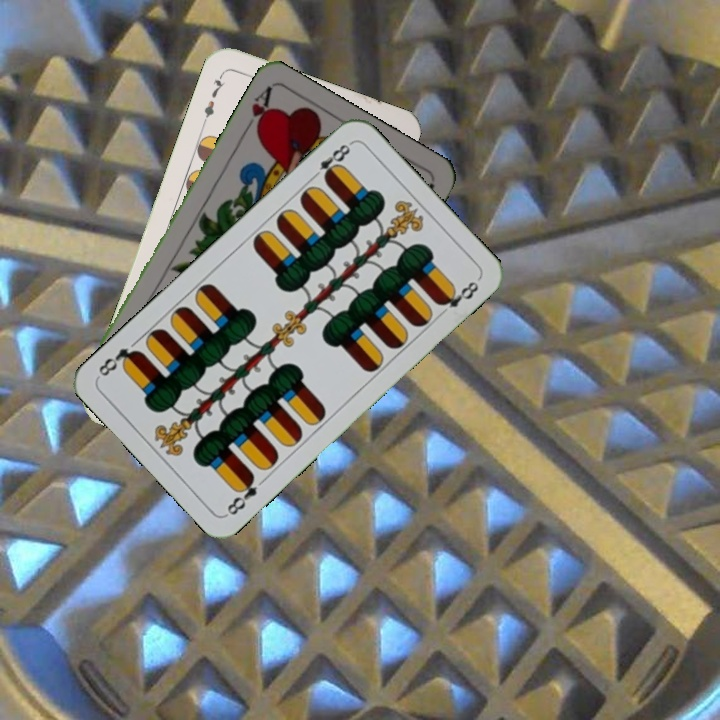E7: (198, 69, 228, 127)
E8: (306, 138, 355, 184), (222, 470, 260, 519)
HA: (238, 83, 275, 138)
